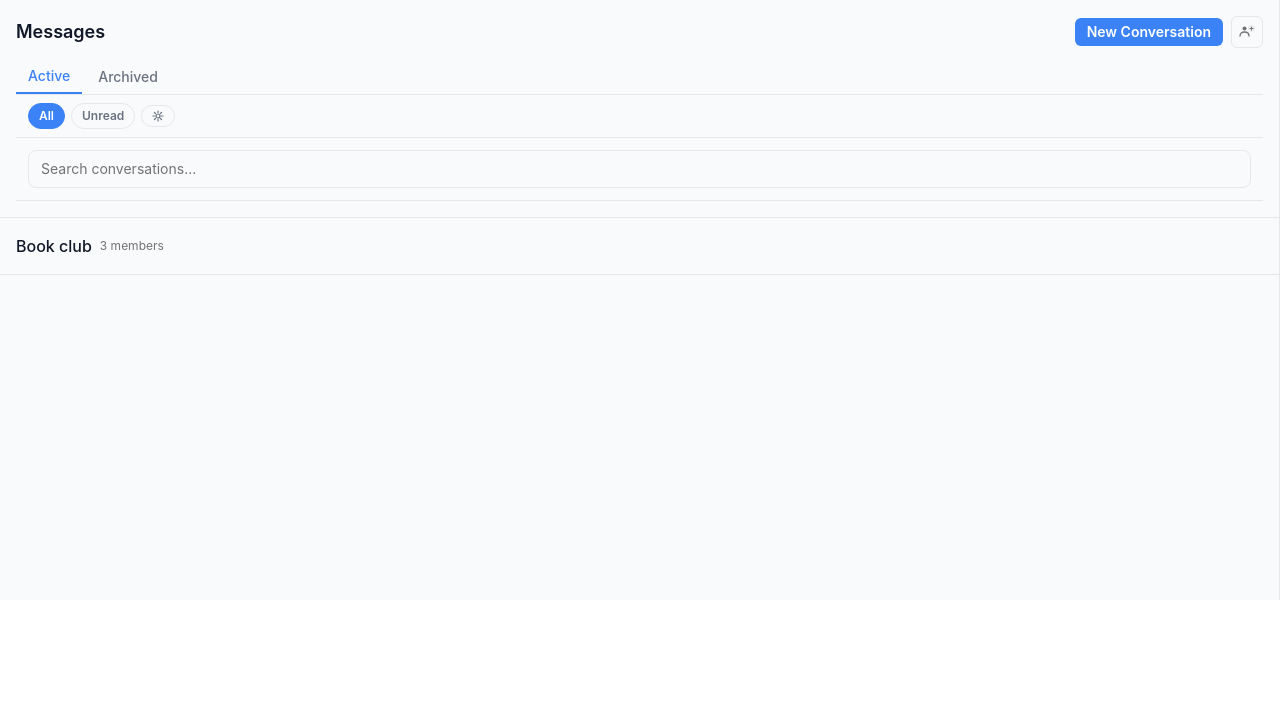
Test: a group message from someone who has left › keeps its sender name, on the message and on a reply to it
The width and height of the screenshot is (1280, 720).
Step 1. Click the button with aria-label "Open conversation" → click(90, 246), box [16, 236, 164, 256]
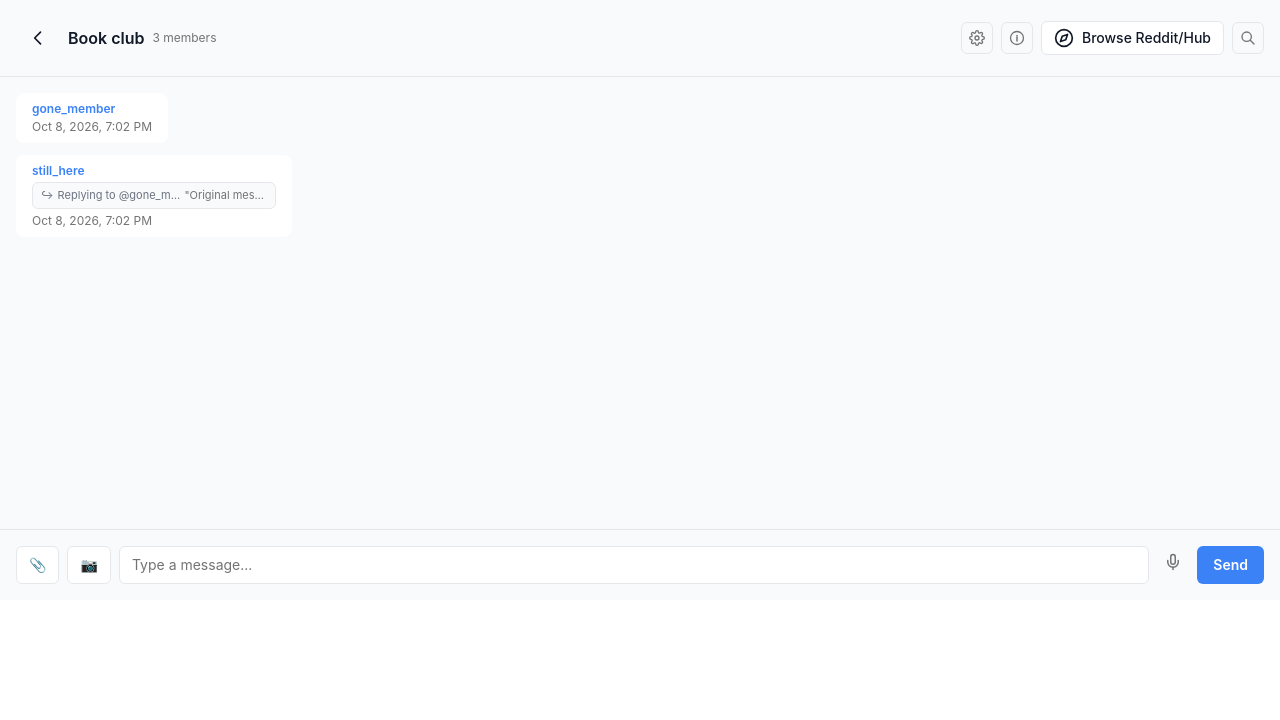
Expected: the text "gone_member" is shown, [32, 101, 115, 116]
Expected: the text "still_here" is shown, [32, 163, 84, 178]
Expected: the text "Replying to @gone_member:" is shown, [58, 187, 180, 204]
